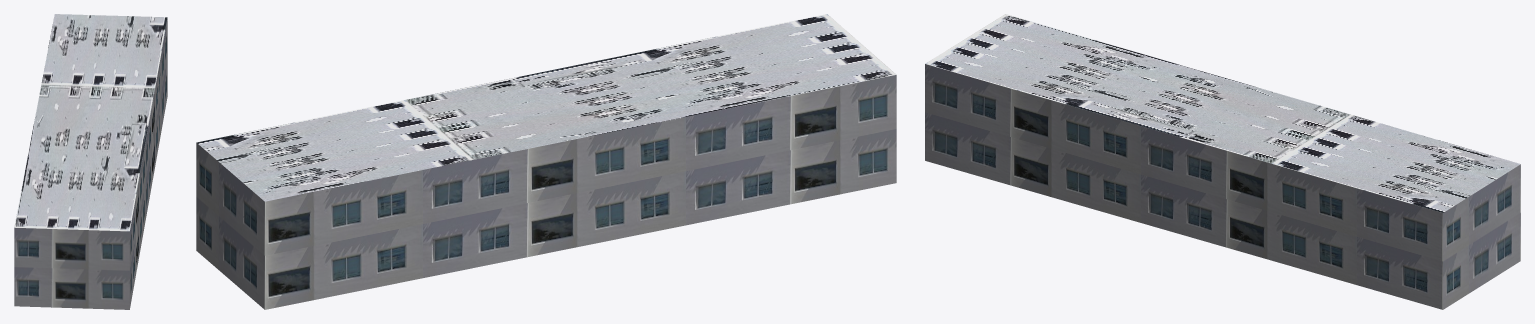
File: ResTex__1861.fbx
3 renders of one model, left to right at view 1: azimuth 30°, elevation 25°; view 2: azimuth 150°, elevation 25°; view 3: azimuth 270°, elevation 25°, orthographic. The views are drawn at different scales.
Visible parts, largest first — view 1: CityEngineMaterial_8_m, CityEngineMaterial_10_m; view 2: CityEngineMaterial_10_m, CityEngineMaterial_8_m; view 3: CityEngineMaterial_10_m, CityEngineMaterial_8_m.
Boxes of the visible parts, box(x1,y1,x2,y2) form: CityEngineMaterial_8_m: box(14, 14, 167, 231); CityEngineMaterial_10_m: box(14, 19, 167, 309); CityEngineMaterial_10_m: box(196, 75, 896, 309); CityEngineMaterial_8_m: box(196, 14, 896, 201); CityEngineMaterial_10_m: box(925, 64, 1520, 309); CityEngineMaterial_8_m: box(925, 14, 1520, 212).
Size of the model in its own units: 26.45 by 6 by 33.46.
Materials: 2 (2 with a texture image).
